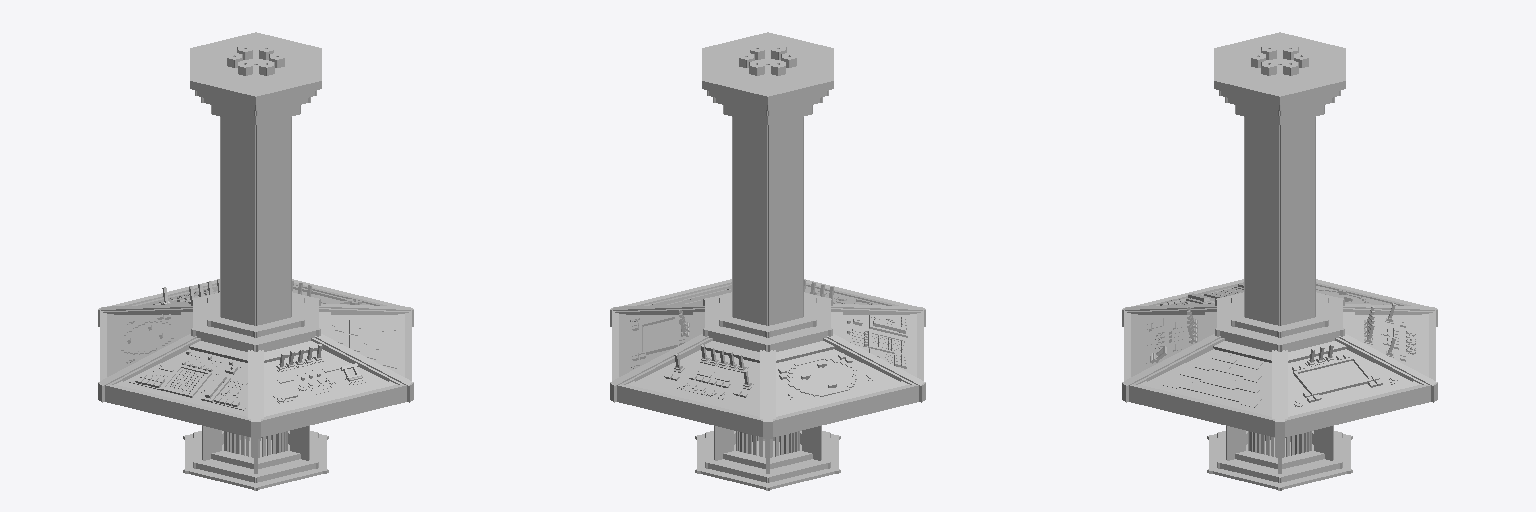
The model's file is tardis_console_unit_toyota.obj.
The picture shows the model from 3 angles: view 1: azimuth 30°, elevation 25°; view 2: azimuth 150°, elevation 25°; view 3: azimuth 270°, elevation 25°; orthographic projection.
Visible parts, largest first — view 1: rotor_platform_b_4, rotor_platform_b_5, desk_border_a_4, desk_border_a_5, rotor_roof_d_4, rotor_roof_d_5, rotor_roof_d_3, rotor_roof_d_6, rotor_platform_a_4, rotor_platform_a_5, rotor_roof_d_1, rotor_roof_d_2 (+17 smaller); view 2: rotor_platform_b_1, rotor_platform_b_6, desk_border_a_1, desk_border_a_6, rotor_roof_d_1, rotor_roof_d_2, rotor_roof_d_6, rotor_platform_a_1, rotor_platform_a_6, rotor_roof_d_5, rotor_roof_d_3, rotor_roof_d_4 (+19 smaller); view 3: rotor_platform_b_2, rotor_platform_b_3, desk_border_a_3, desk_border_a_2, rotor_roof_d_1, rotor_roof_d_2, rotor_roof_d_4, rotor_roof_d_3, control_monitor_main, rotor_platform_a_3, rotor_platform_a_2, desk_panel_separators_b_3 (+16 smaller).
Boxes of the visible parts, <box> form: rotor_platform_b_4: <box>249,117,304,337</box>; rotor_platform_b_5: <box>207,117,262,337</box>; desk_border_a_4: <box>261,384,406,436</box>; desk_border_a_5: <box>105,384,250,436</box>; rotor_roof_d_4: <box>232,57,321,104</box>; rotor_roof_d_5: <box>190,57,272,104</box>; rotor_roof_d_3: <box>258,48,321,80</box>; rotor_roof_d_6: <box>190,48,253,80</box>; rotor_platform_a_4: <box>240,318,320,351</box>; rotor_platform_a_5: <box>191,318,272,351</box>; rotor_roof_d_1: <box>190,32,274,71</box>; rotor_roof_d_2: <box>240,32,321,71</box>; rotor_platform_b_1: <box>719,117,774,337</box>; rotor_platform_b_6: <box>761,117,816,337</box>; desk_border_a_1: <box>617,384,762,436</box>; desk_border_a_6: <box>773,384,918,436</box>; rotor_roof_d_1: <box>702,57,796,104</box>; rotor_roof_d_2: <box>702,48,765,80</box>; rotor_roof_d_6: <box>750,57,833,104</box>; rotor_platform_a_1: <box>703,318,784,351</box>; rotor_platform_a_6: <box>753,322,832,351</box>; rotor_roof_d_5: <box>770,48,833,80</box>; rotor_roof_d_3: <box>702,32,799,71</box>; rotor_roof_d_4: <box>751,32,833,71</box>; rotor_platform_b_2: <box>1273,117,1328,337</box>; rotor_platform_b_3: <box>1231,117,1282,337</box>; desk_border_a_3: <box>1129,384,1274,436</box>; desk_border_a_2: <box>1285,384,1430,436</box>; rotor_roof_d_1: <box>1282,48,1345,80</box>; rotor_roof_d_2: <box>1252,65,1345,104</box>; rotor_roof_d_4: <box>1214,48,1277,80</box>; rotor_roof_d_3: <box>1214,58,1299,104</box>; control_monitor_main: <box>1295,361,1367,391</box>; rotor_platform_a_3: <box>1215,318,1293,351</box>; rotor_platform_a_2: <box>1268,318,1344,351</box>; desk_panel_separators_b_3: <box>1275,350,1284,421</box>.
Bounding box in the file's own units: 7.36 × 9 × 6.47.